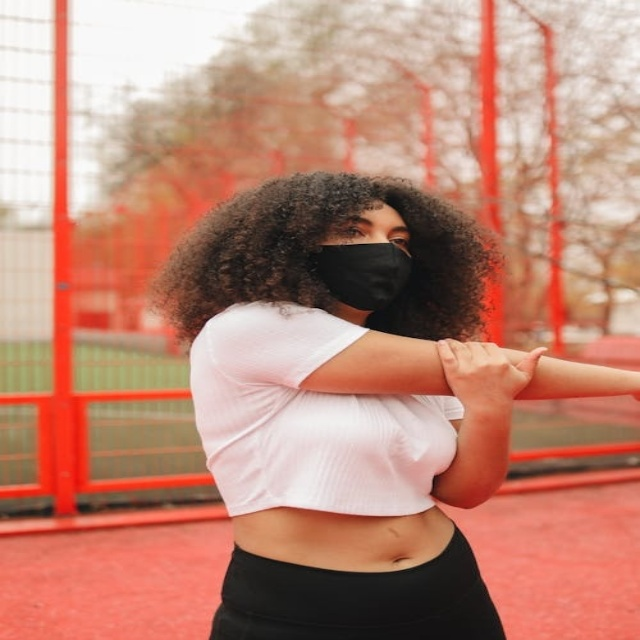Mascara: (311, 242, 413, 309)
Sin_gafas: (344, 213, 412, 249)
Sin_guantes: (432, 338, 543, 403)
